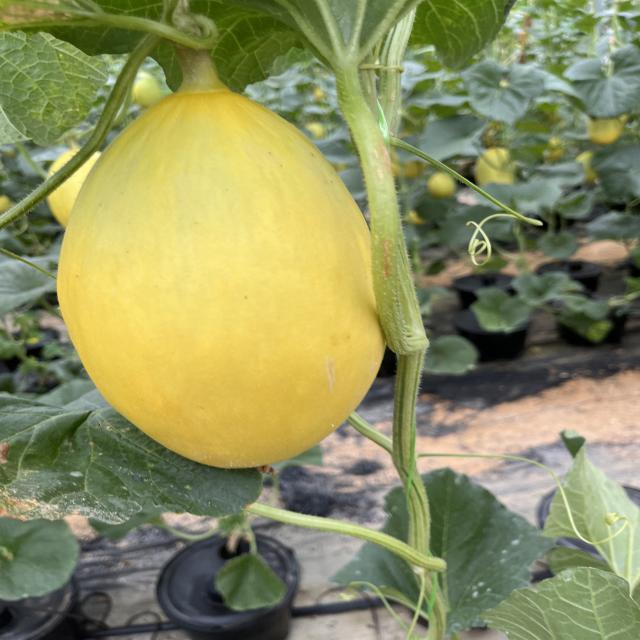alternaria leaf blight: (0, 387, 263, 525)
downy mildew: (0, 31, 108, 148)
healthy: (476, 566, 639, 640)
